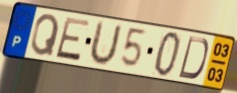0: (152, 30, 182, 78)
5: (119, 27, 147, 71)
D: (176, 35, 210, 82)
E: (53, 15, 92, 63)
Q: (29, 13, 61, 58)
U: (86, 19, 124, 67)
